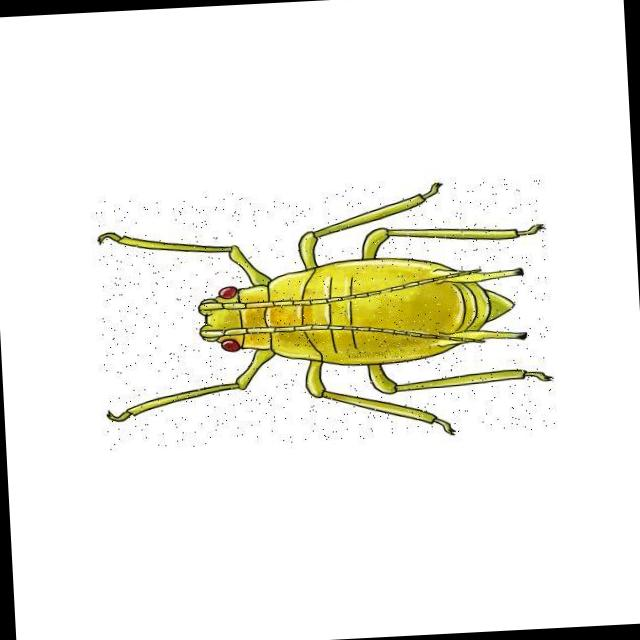aphid: (99, 182, 551, 433)
